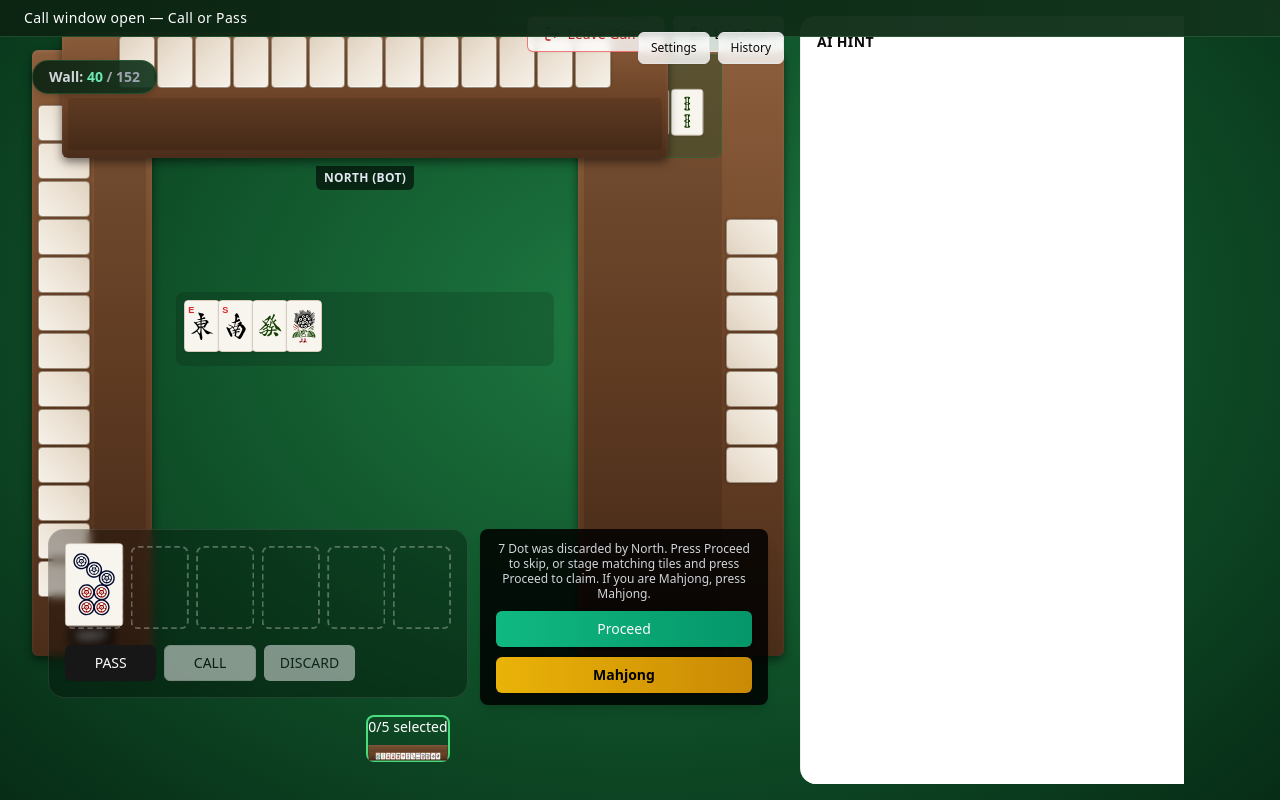
Call Window Integration › AC-6/AC-8: invalid staged claims show feedback and keep Proceed enabled
This screenshot has width=1280, height=800.
Step 1. Click the button with test id "tile-1-1-0" → (383, 756), box [381,752,386,759]
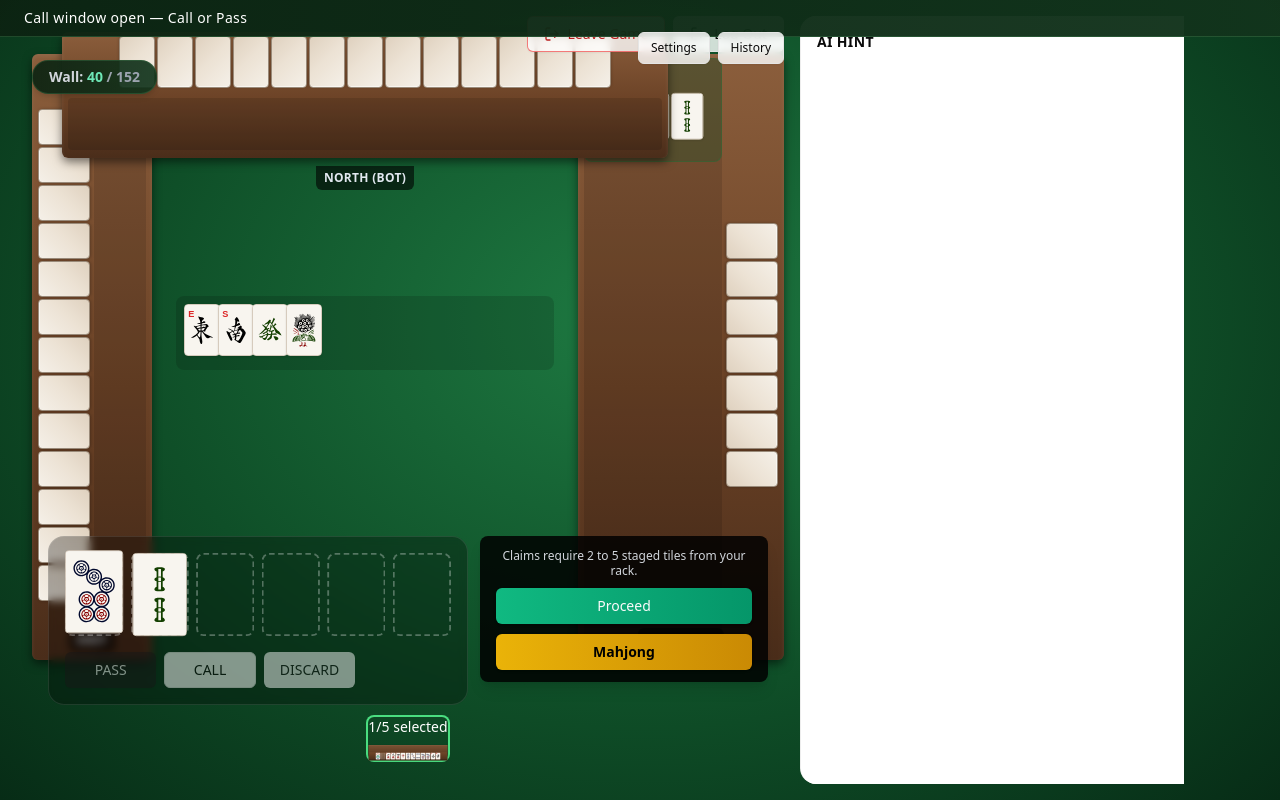
Result: the text with test id "action-instruction" reads "Claims require 2 to 5 staged tiles from your rack." at [502,547,746,579]
Step 2. Click the button with test id "proceed-button" → (624, 606), box [496,588,752,624]
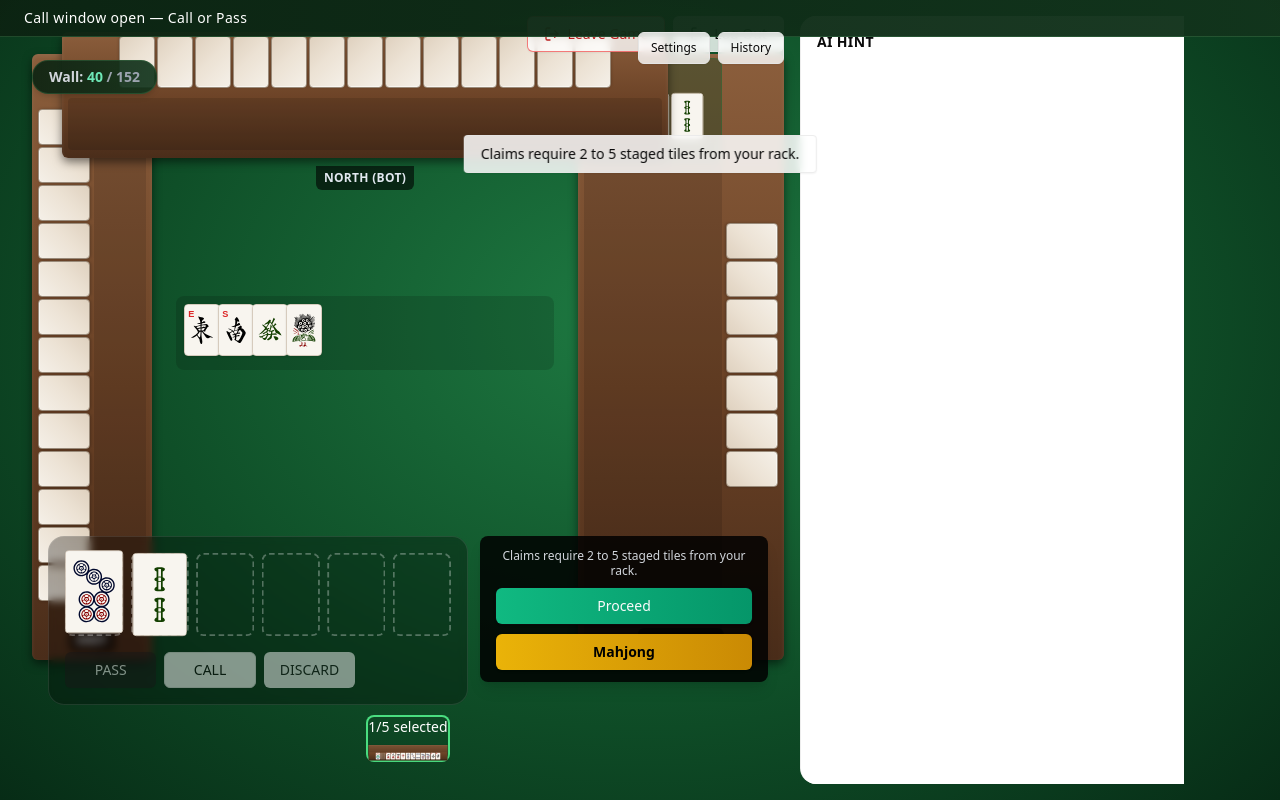
Result: the message "Claims require 2 to 5 staged tiles from your rack." is shown at [464,135,816,173]
